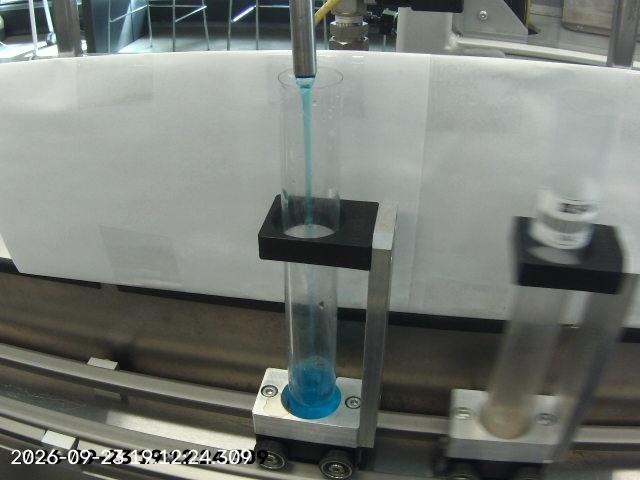vial: (479, 89, 618, 439), (276, 66, 347, 419)
